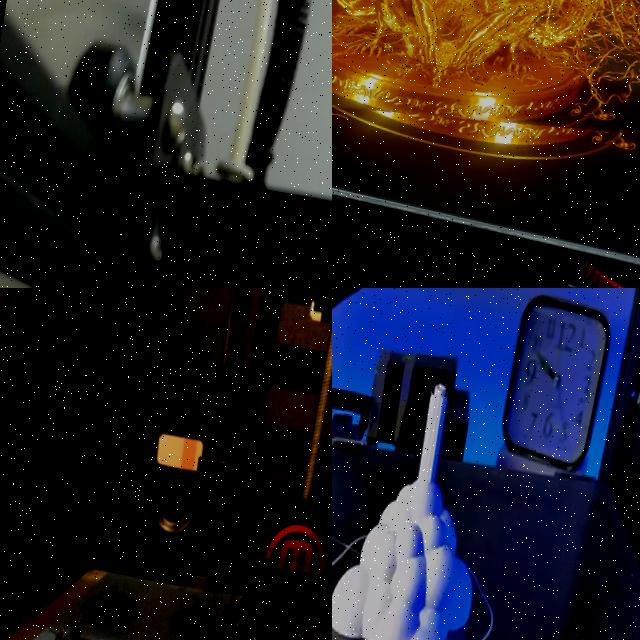spaghetti: (332, 0, 640, 177), (214, 565, 312, 640)
